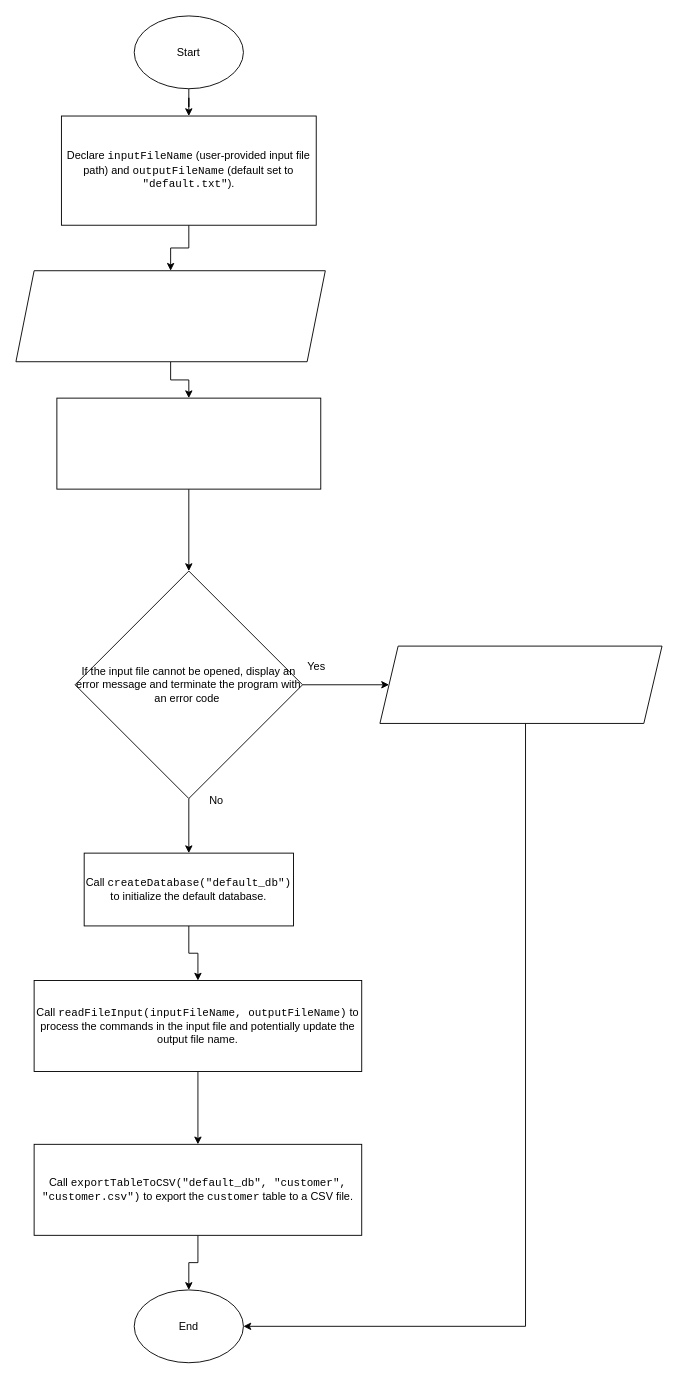
This 678x1379 diagram has some shape labels left out. The shapes that lost their labels are listed below. From the top down, each one's centre as x and y in pixels, then its label:
(170,316): Display the prompt: "Enter the path of the input file: "
(188,443): Attempt to open the input file with the provided path.
(520,684): Error Message: "Error: Could not open file: <inputFileName>"
